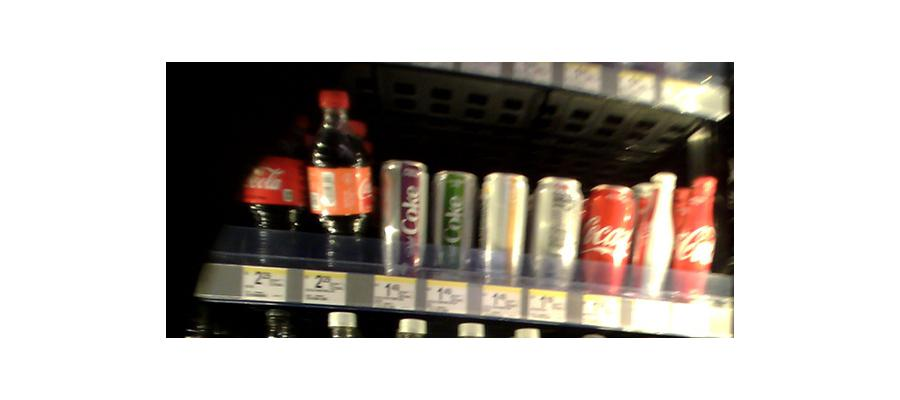bottle: (309, 87, 371, 269), (246, 130, 303, 264), (531, 174, 581, 292), (478, 170, 528, 286), (583, 183, 634, 296), (634, 174, 677, 301), (676, 173, 718, 301), (381, 158, 427, 272), (431, 167, 473, 276)
